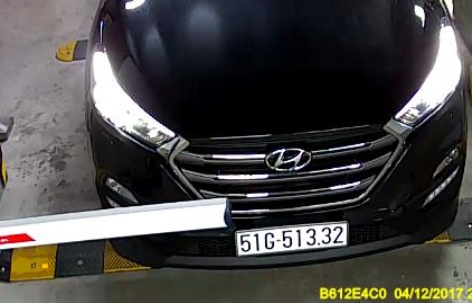plate: (227, 226, 353, 256)
